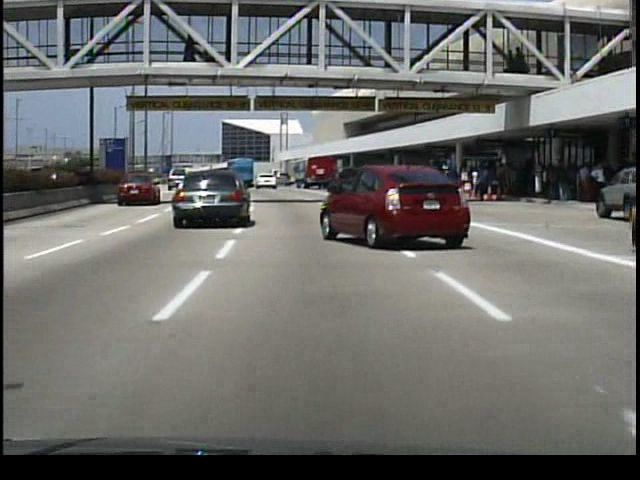person: (477, 163, 492, 203), (184, 33, 200, 65)
